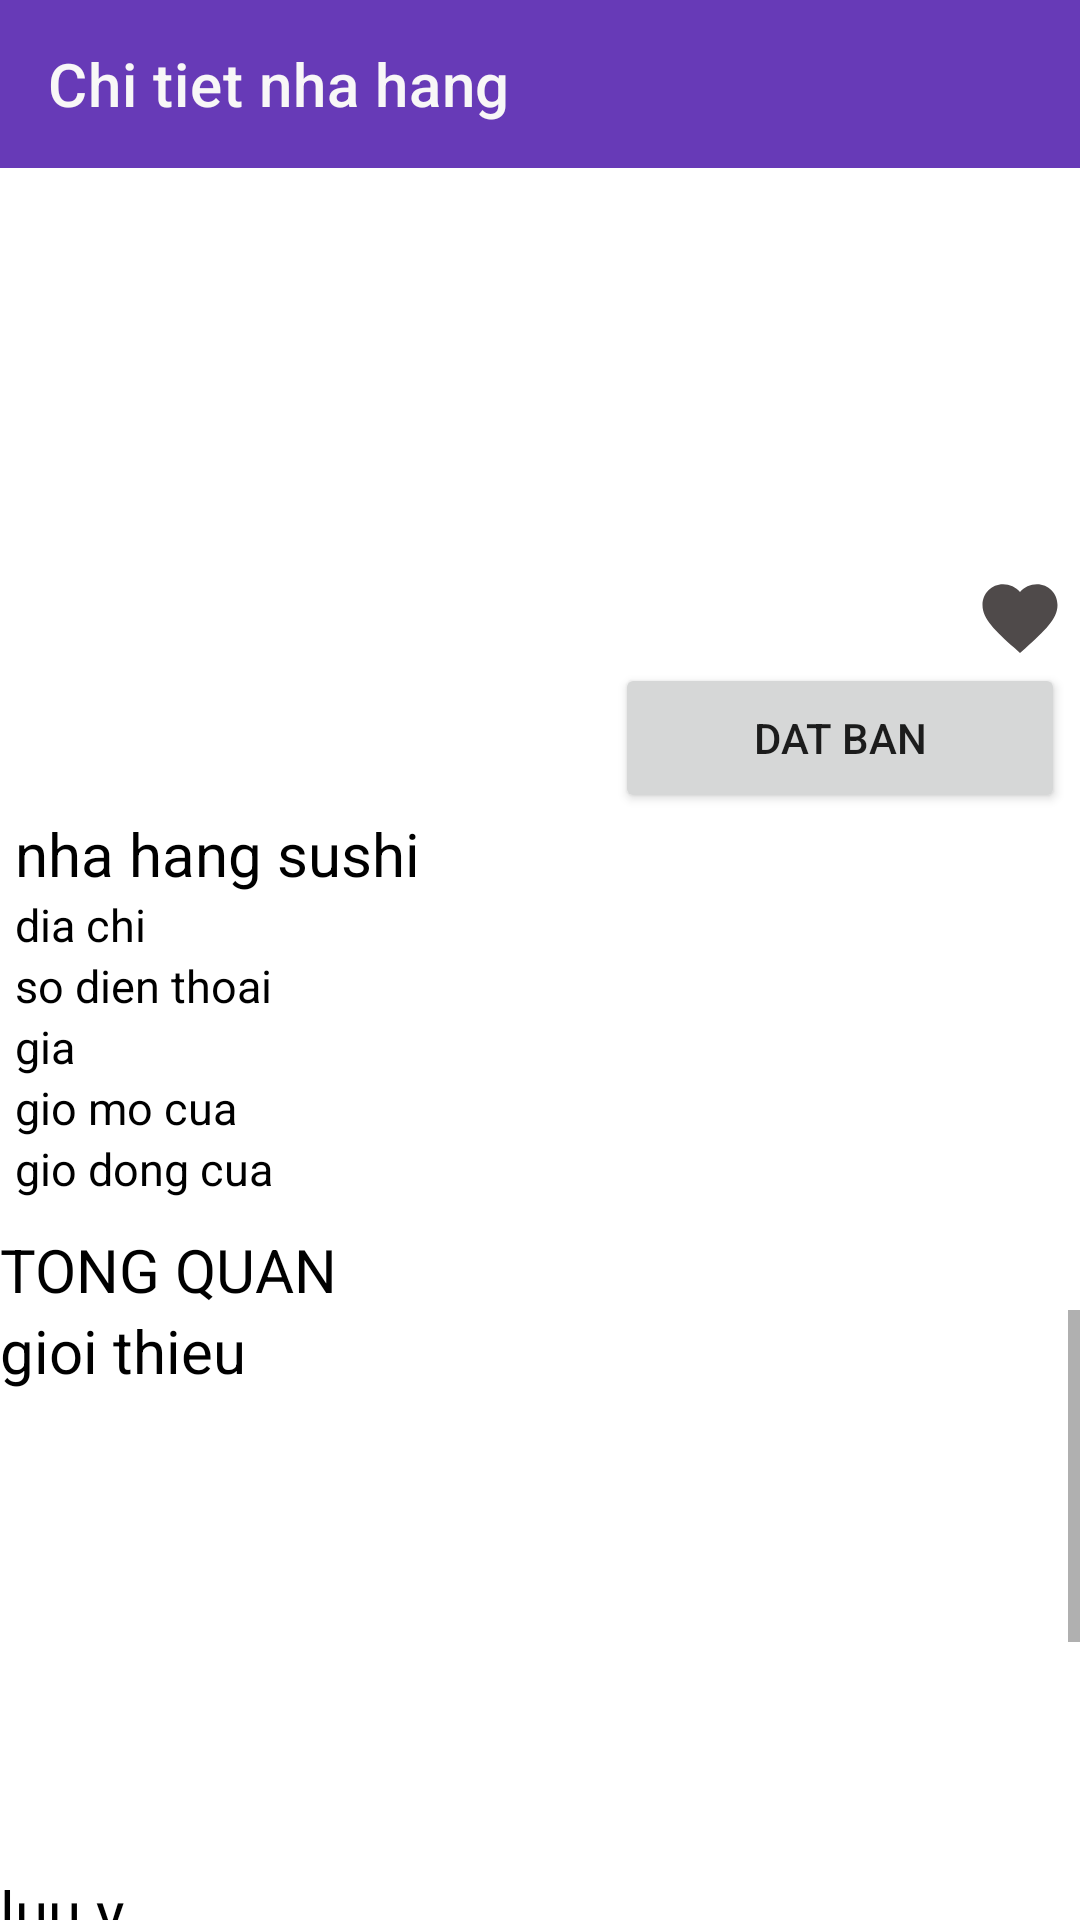

Icons on this 1080*1920 Android screen, each with the point to tap as [x,y]:
love: [1020,618]
